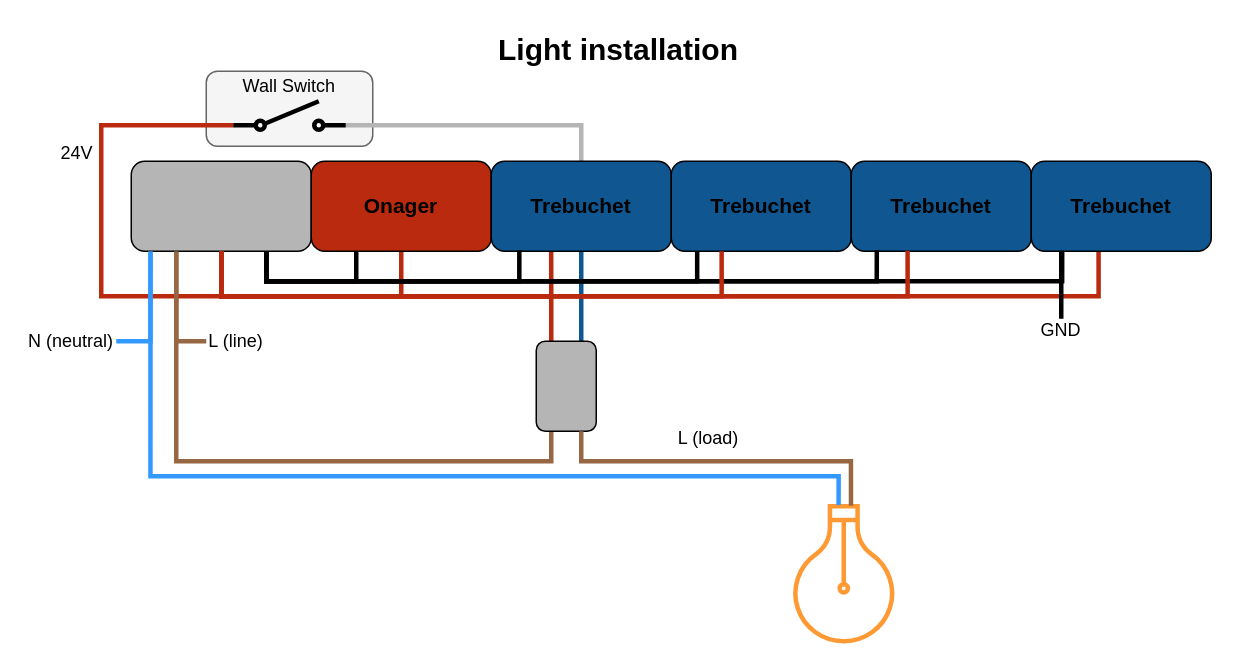
Image size: 1238x669. Some labels were removed from this diagram. Here are the shapes that lost their labels. From the top down, the centre of each, then its label:
the point at 220,205: Powersuplly
the point at 565,385: Relay
